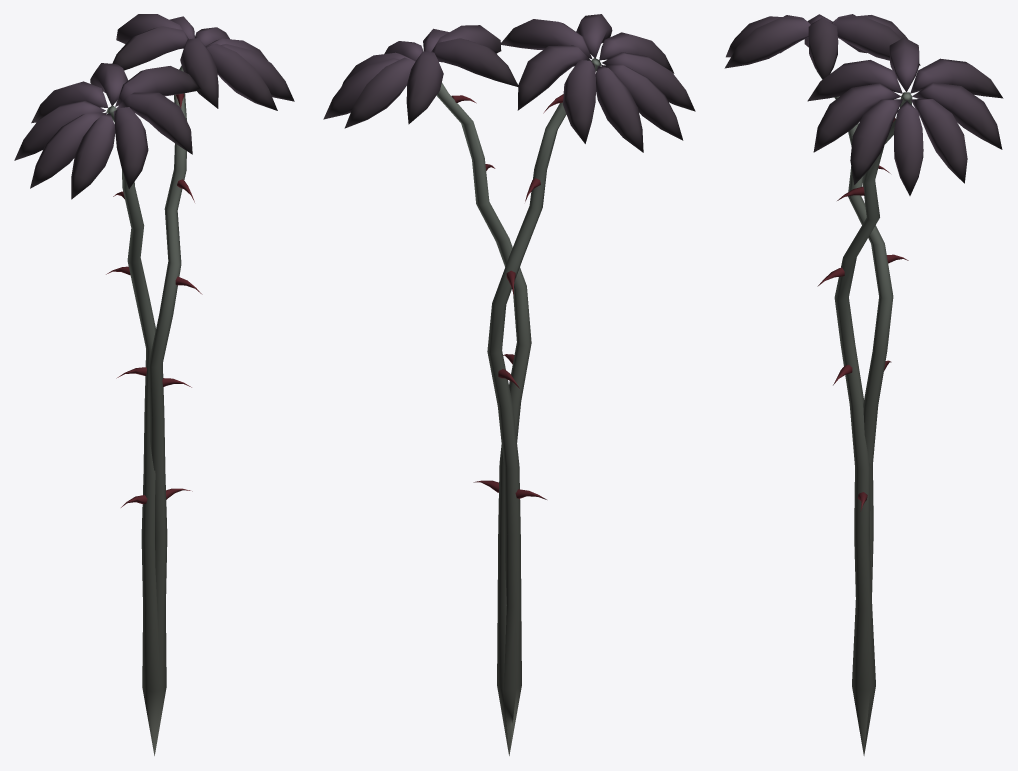
The model's file is plants-flowers-thorny-purple-flower_v5.glb.
3 views of the same model, side by side, from view 1: azimuth 30°, elevation 25°; view 2: azimuth 150°, elevation 25°; view 3: azimuth 270°, elevation 25° (orthographic). The views are drawn at different scales.
Parts seen in each view (by area): view 1: Thorny Purple Flower_v5; view 2: Thorny Purple Flower_v5; view 3: Thorny Purple Flower_v5.
Boxes of the visible parts, <box> form: Thorny Purple Flower_v5: <box>14,14,294,755</box>; Thorny Purple Flower_v5: <box>323,14,695,755</box>; Thorny Purple Flower_v5: <box>724,14,1003,755</box>.
Bounding box in the file's own units: 0.2605 × 0.6 × 0.2096.
